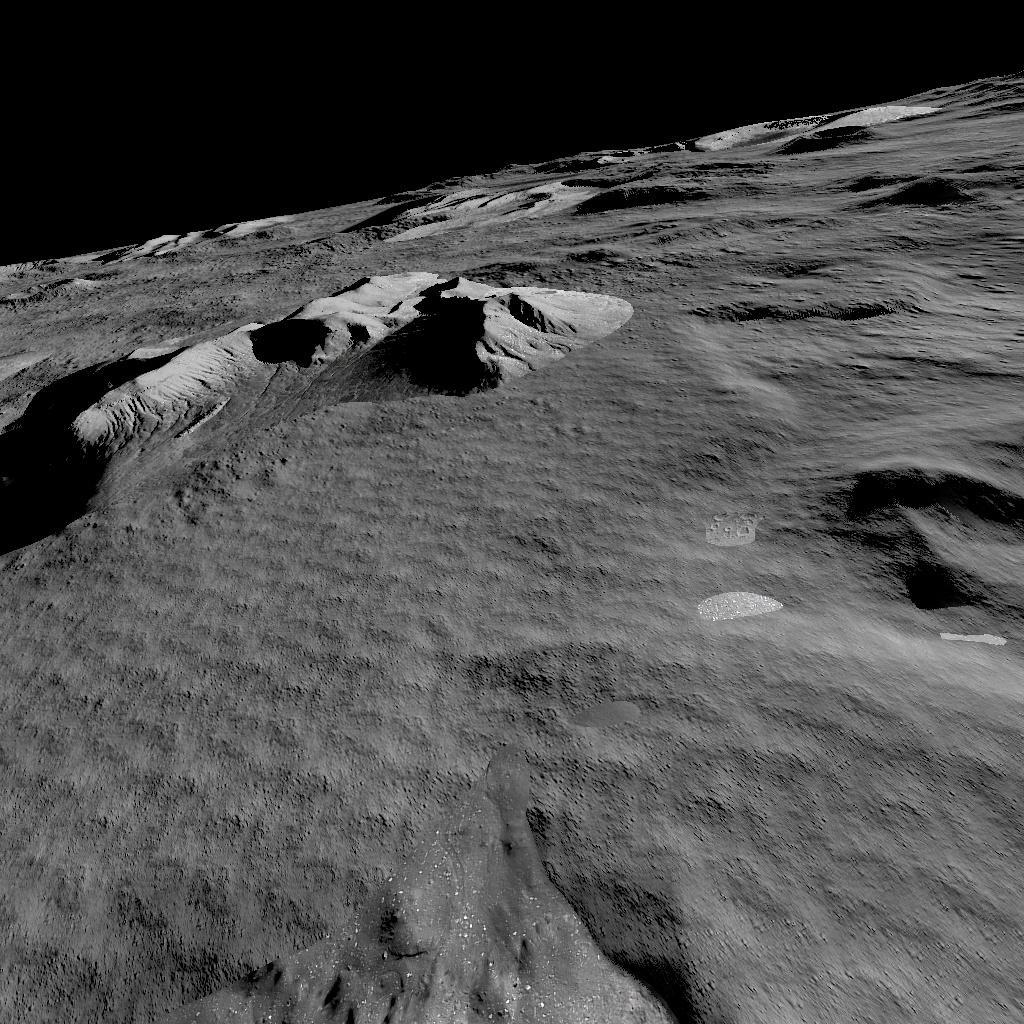Boulders: (0, 270, 633, 512), (347, 102, 1003, 245), (104, 212, 292, 254)
Crater: (0, 801, 1024, 1024), (803, 457, 1024, 642), (674, 289, 906, 346)
Plan surface: (0, 544, 763, 776)
